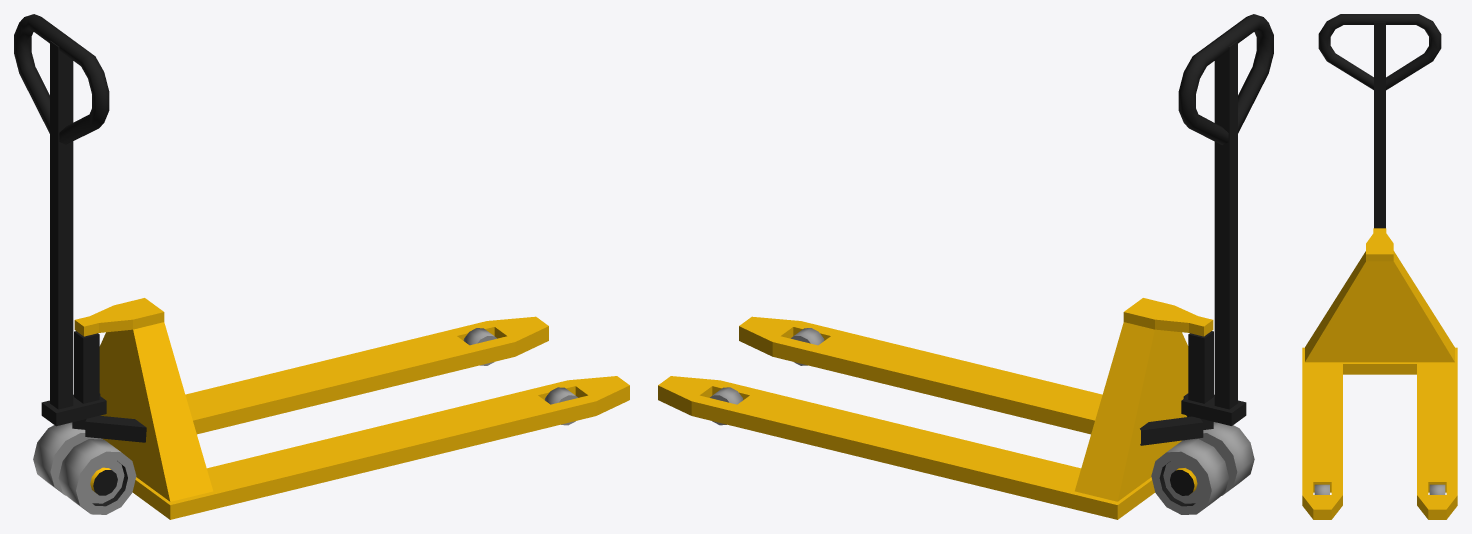
File: traspaleta.fbx
The picture shows the model from 3 angles, left to right: view 1: azimuth 30°, elevation 25°; view 2: azimuth 150°, elevation 25°; view 3: azimuth 270°, elevation 25°; orthographic projection. The views are drawn at different scales.
Parts seen in each view (by area): view 1: Traspaleta; view 2: Traspaleta; view 3: Traspaleta.
Part boxes in pixels (bbox=[...]): Traspaleta: bbox=[14, 14, 629, 519]; Traspaleta: bbox=[658, 14, 1273, 519]; Traspaleta: bbox=[1302, 14, 1457, 519].
Bounding box in the file's own units: 145 × 122 × 51.64.
